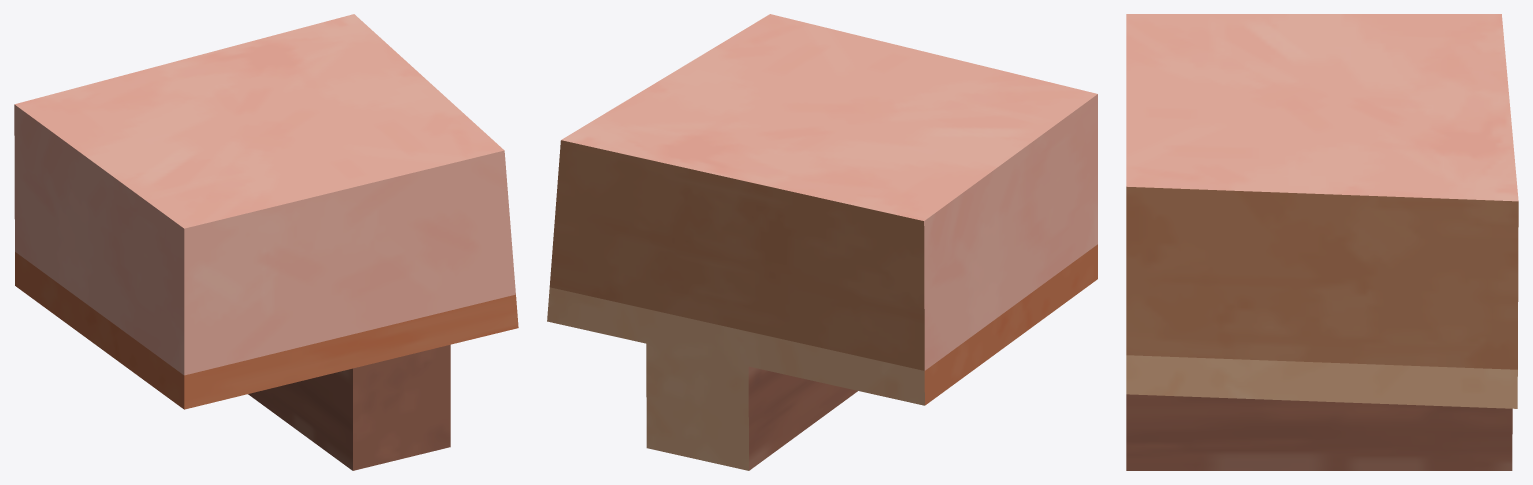
File: floor_s01.fbx
3 views of the same model, side by side, from view 1: azimuth 30°, elevation 25°; view 2: azimuth 150°, elevation 25°; view 3: azimuth 270°, elevation 25° (orthographic). The views are drawn at different scales.
Visible parts, largest first — view 1: floor_s01; view 2: floor_s01; view 3: floor_s01.
Part boxes in pixels (left/top/right/bottom): floor_s01: left=14, top=14, right=518, bottom=470; floor_s01: left=547, top=14, right=1097, bottom=470; floor_s01: left=1126, top=14, right=1518, bottom=470.
Bounding box in the file's own units: 2.22 × 1.66 × 1.88.
